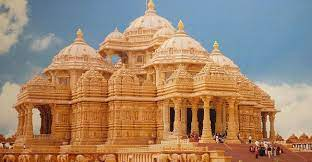Temple: (16, 5, 280, 148)
